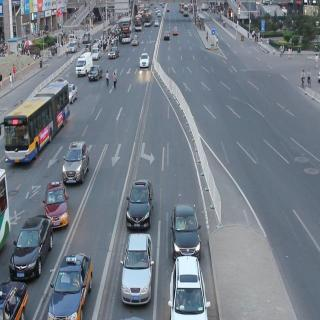BigCar: (3, 84, 68, 161)
Car: (48, 245, 92, 320), (10, 209, 53, 280), (120, 234, 154, 309), (170, 200, 201, 260), (124, 178, 157, 232), (60, 133, 89, 185), (0, 276, 31, 320), (44, 179, 68, 228), (75, 50, 93, 74), (137, 48, 151, 73), (89, 64, 101, 82), (107, 46, 119, 62), (162, 29, 172, 43), (92, 48, 102, 60), (131, 34, 139, 45), (154, 18, 160, 31), (172, 25, 179, 36)
